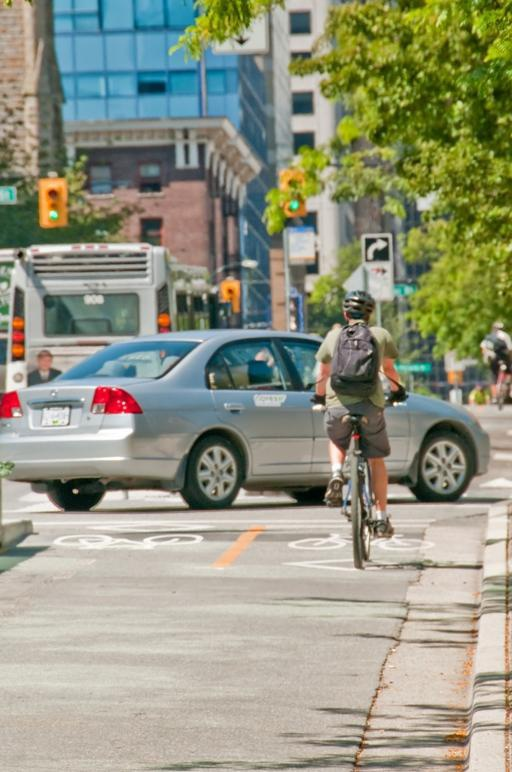non-vehicle: (310, 391, 409, 569), (495, 348, 510, 410)
